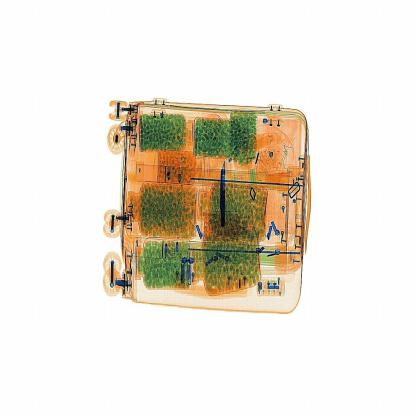pliers: (217, 165, 229, 231)
